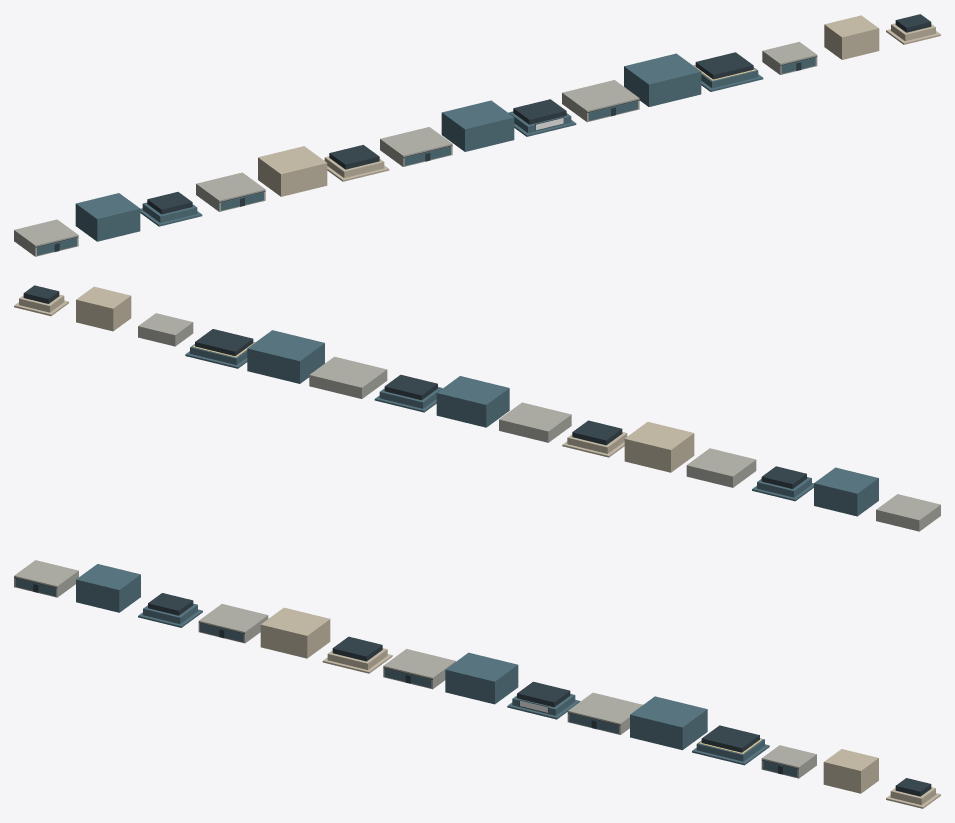
The model's file is sf-tower-modules.glb.
The picture shows the model from 3 angles, top to bottom: view 1: azimuth 30°, elevation 25°; view 2: azimuth 150°, elevation 25°; view 3: azimuth 330°, elevation 25°; orthographic projection.
Parts seen in each view (by area): view 1: crown_base_body, screen_base_body, stone_base_body, crown_crown_body, glass_base_body, stone_crown_body, screen_crown_body, glass_crown_body, crown_mid_body, midrise_base_body, crown_mid_facade_front, screen_mid_body (+12 smaller); view 2: crown_base_body, screen_base_body, stone_base_body, crown_crown_body, glass_base_body, screen_crown_body, stone_crown_body, glass_crown_body, crown_mid_body, midrise_base_body, crown_mid_facade_back, screen_mid_facade_back (+11 smaller); view 3: crown_base_body, crown_crown_body, screen_base_body, stone_base_body, glass_base_body, stone_crown_body, screen_crown_body, glass_crown_body, crown_mid_body, midrise_base_body, crown_mid_facade_front, screen_mid_body (+11 smaller).
Boxes of the visible parts, x1,y1,x2,y2 form: crown_base_body: [562, 80, 639, 122]; screen_base_body: [380, 127, 452, 166]; stone_base_body: [196, 172, 265, 211]; crown_crown_body: [693, 52, 763, 91]; glass_base_body: [14, 219, 78, 256]; stone_crown_body: [324, 145, 389, 181]; screen_crown_body: [508, 99, 576, 136]; glass_crown_body: [140, 192, 202, 226]; crown_mid_body: [624, 53, 700, 84]; midrise_base_body: [762, 41, 817, 74]; crown_mid_facade_front: [649, 72, 701, 106]; screen_mid_body: [442, 100, 513, 129]; crown_base_body: [309, 356, 387, 398]; screen_base_body: [499, 402, 571, 442]; stone_base_body: [686, 448, 756, 487]; crown_crown_body: [185, 329, 254, 368]; glass_base_body: [876, 494, 940, 531]; screen_crown_body: [374, 374, 442, 412]; stone_crown_body: [562, 420, 627, 457]; glass_crown_body: [752, 466, 813, 501]; crown_mid_body: [247, 330, 324, 361]; midrise_base_body: [138, 313, 193, 346]; crown_mid_facade_back: [247, 348, 299, 383]; screen_mid_facade_back: [436, 393, 486, 427]; crown_base_body: [567, 692, 642, 734]; crown_crown_body: [692, 725, 769, 765]; screen_base_body: [383, 649, 455, 689]; stone_base_body: [198, 604, 268, 643]; glass_base_body: [14, 560, 78, 597]; stone_crown_body: [322, 636, 392, 673]; screen_crown_body: [507, 681, 580, 719]; glass_crown_body: [138, 593, 202, 627]; crown_mid_body: [630, 696, 707, 727]; midrise_base_body: [761, 745, 816, 778]; crown_mid_facade_front: [630, 715, 682, 750]; screen_mid_body: [445, 652, 517, 681].
Size of the model in its own units: 586 by 14 by 28.01.
